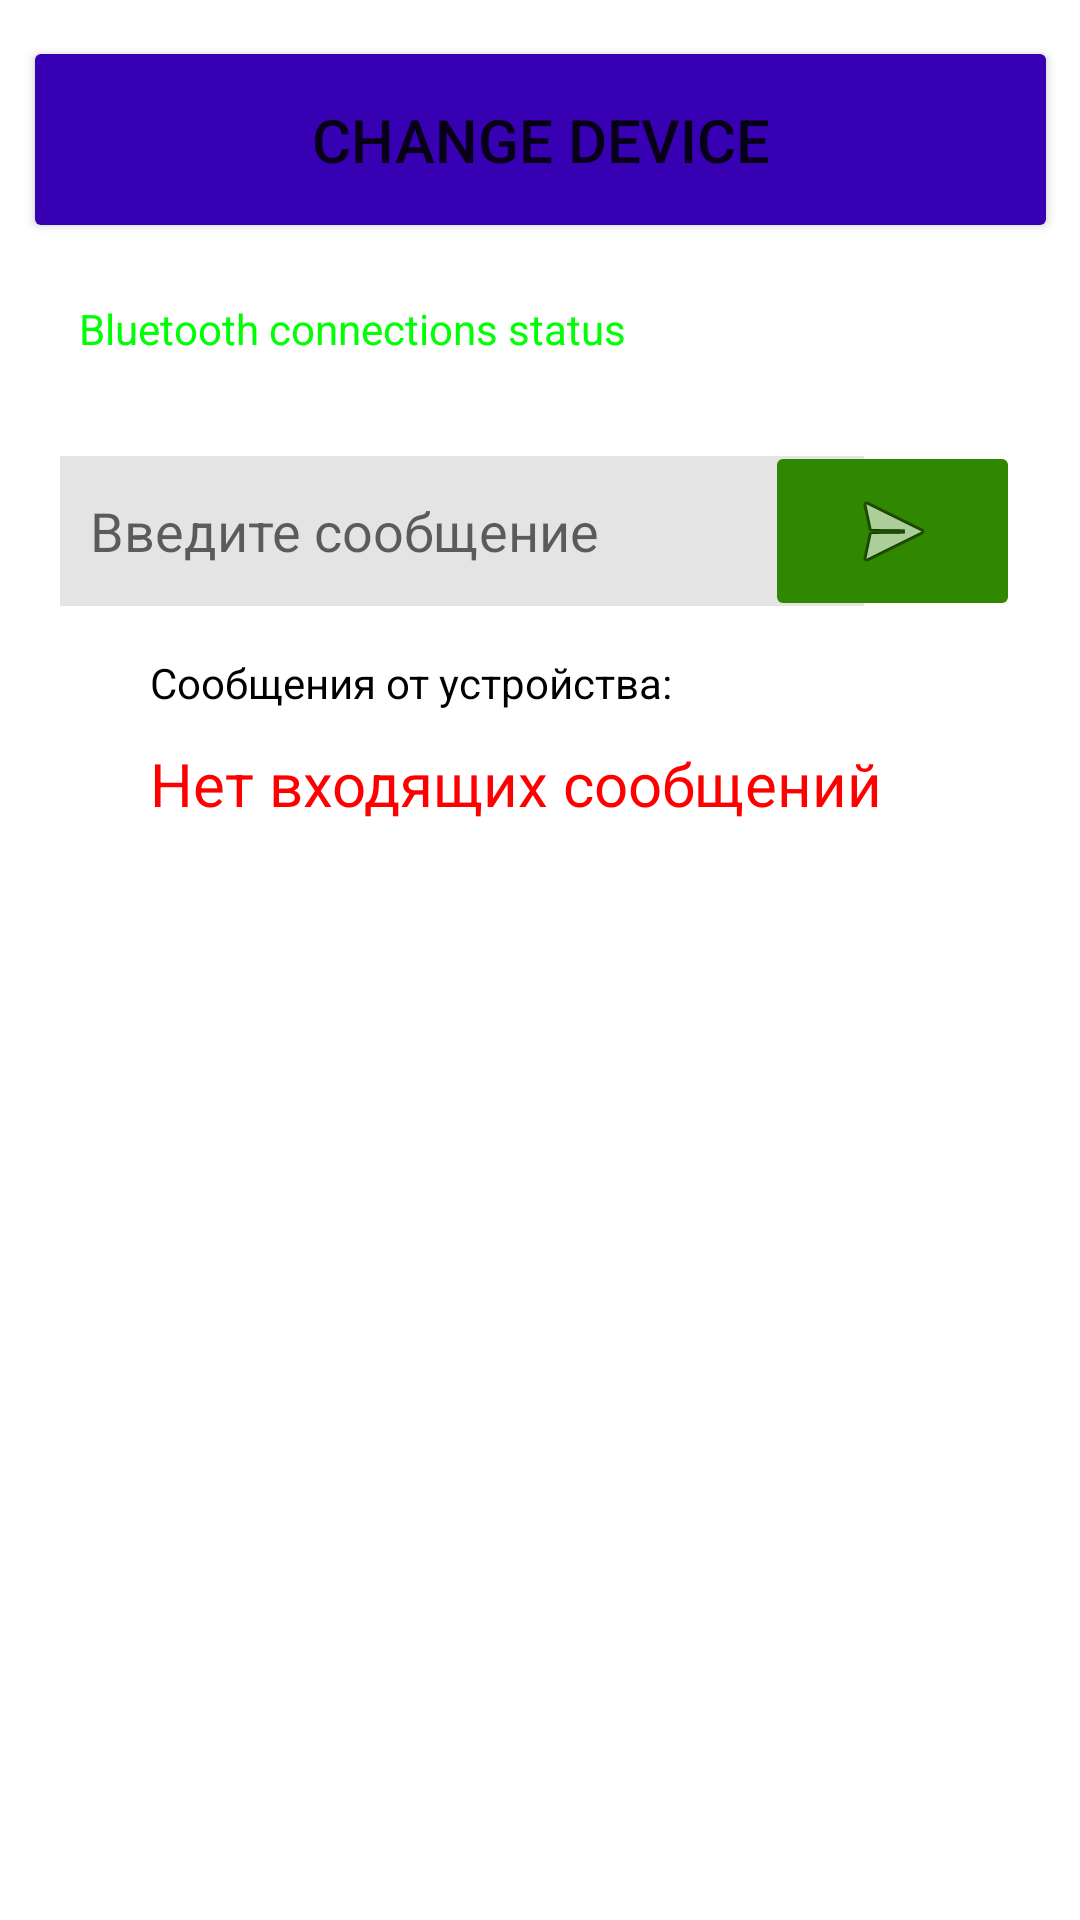

Icon bounding boxes for this 1080*1920 phone screenshot, format region(x1, y1, x2, y2):
send: region(765, 456, 1008, 606)
